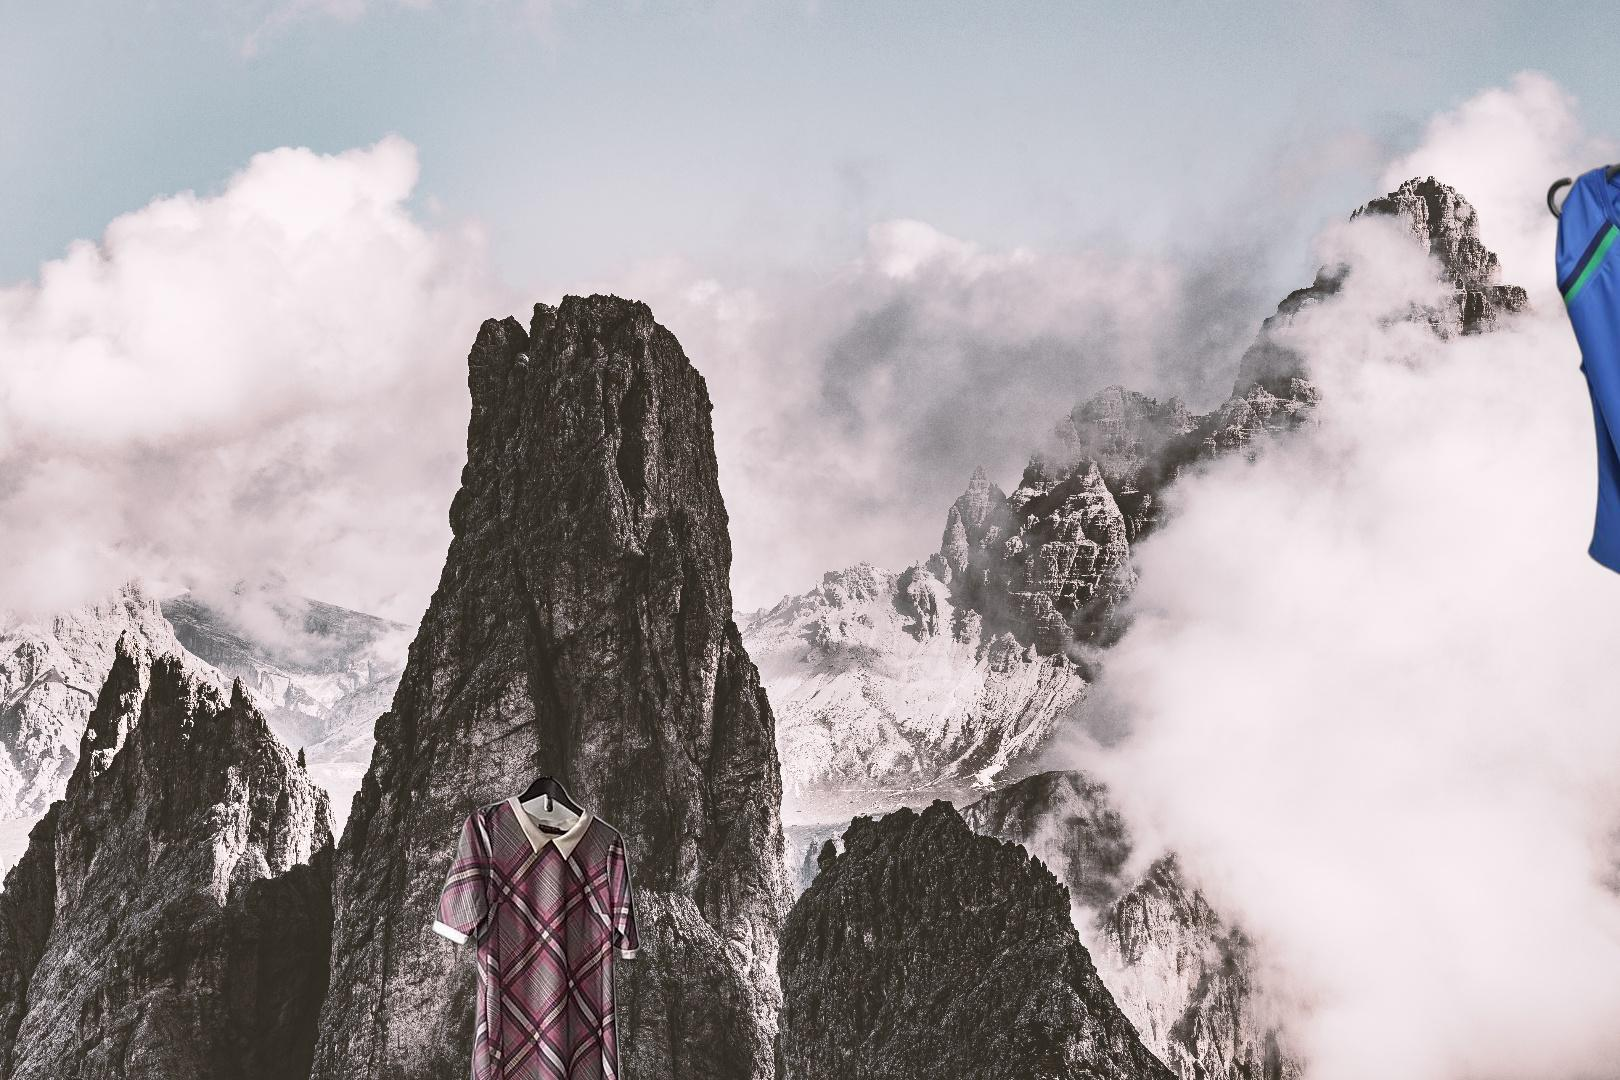clothes: (425, 776, 645, 1080), (1543, 96, 1620, 592)
